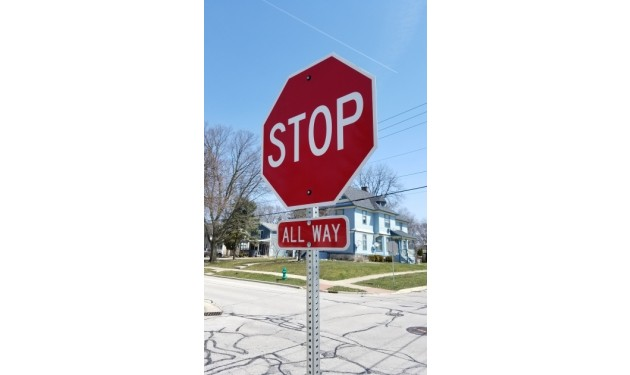stop: (260, 54, 376, 209), (263, 54, 377, 175), (261, 63, 366, 194), (261, 93, 376, 207), (261, 55, 324, 209)
